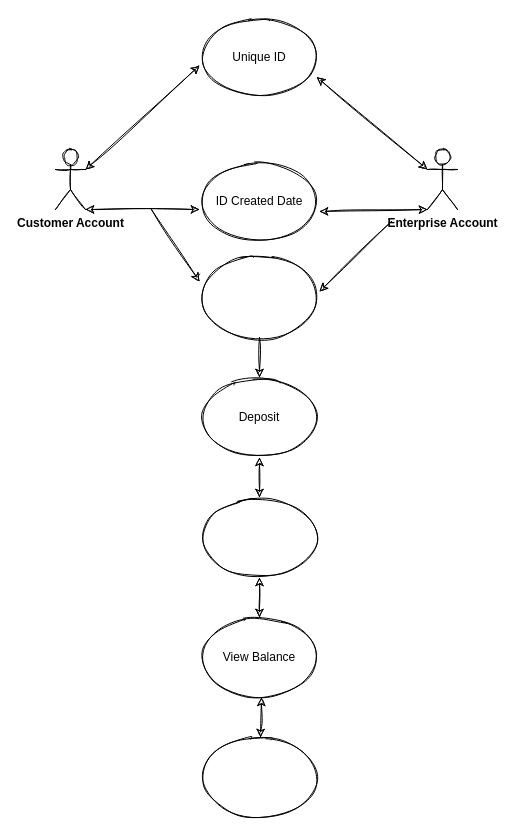
The diagram is 515 pixels wide and 835 high, and some of its shapes have lost their labels. Here are the shapes that lost their labels. From the top down, the box of each, then its label:
(198, 256, 320, 338): Customer Or Enterprise
(198, 496, 320, 578): Withdraw
(198, 736, 320, 818): Exit
